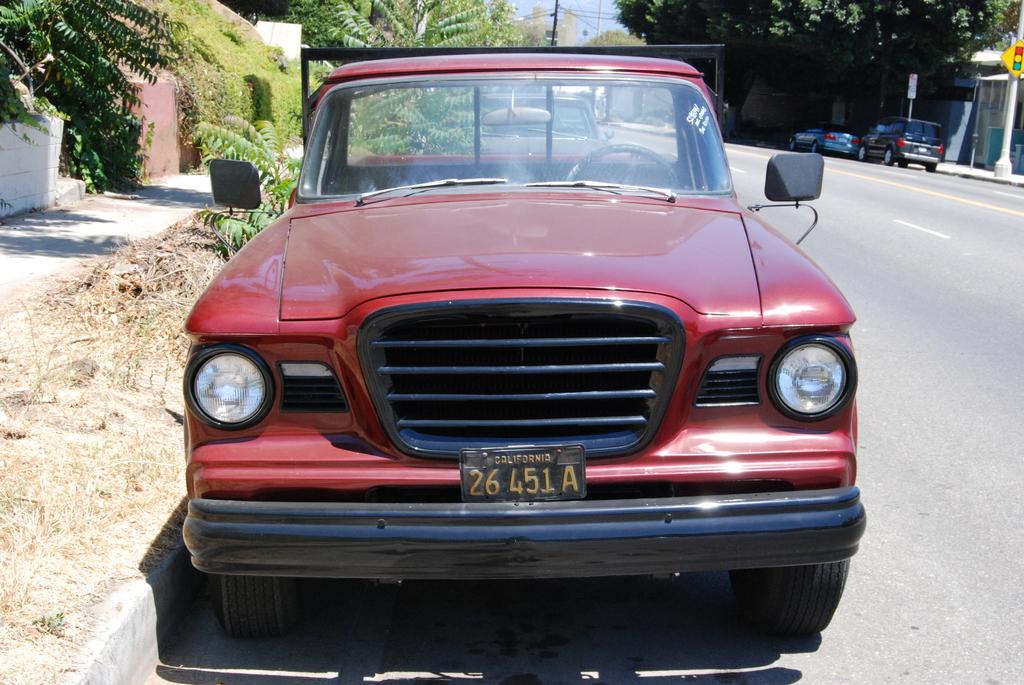Car: (154, 33, 836, 670), (857, 111, 944, 164), (817, 124, 861, 152), (784, 127, 830, 140)
